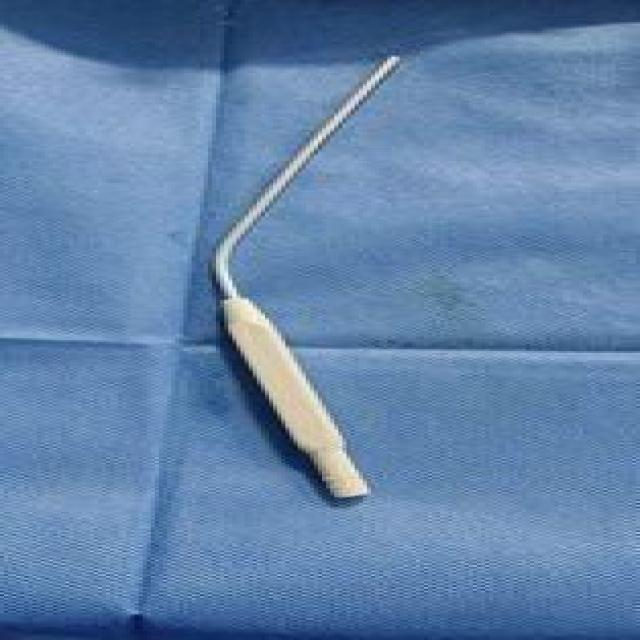Frazier: (196, 49, 420, 503)
